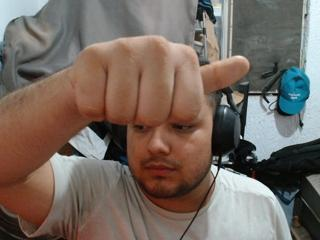Izquierda: (64, 27, 258, 131)
